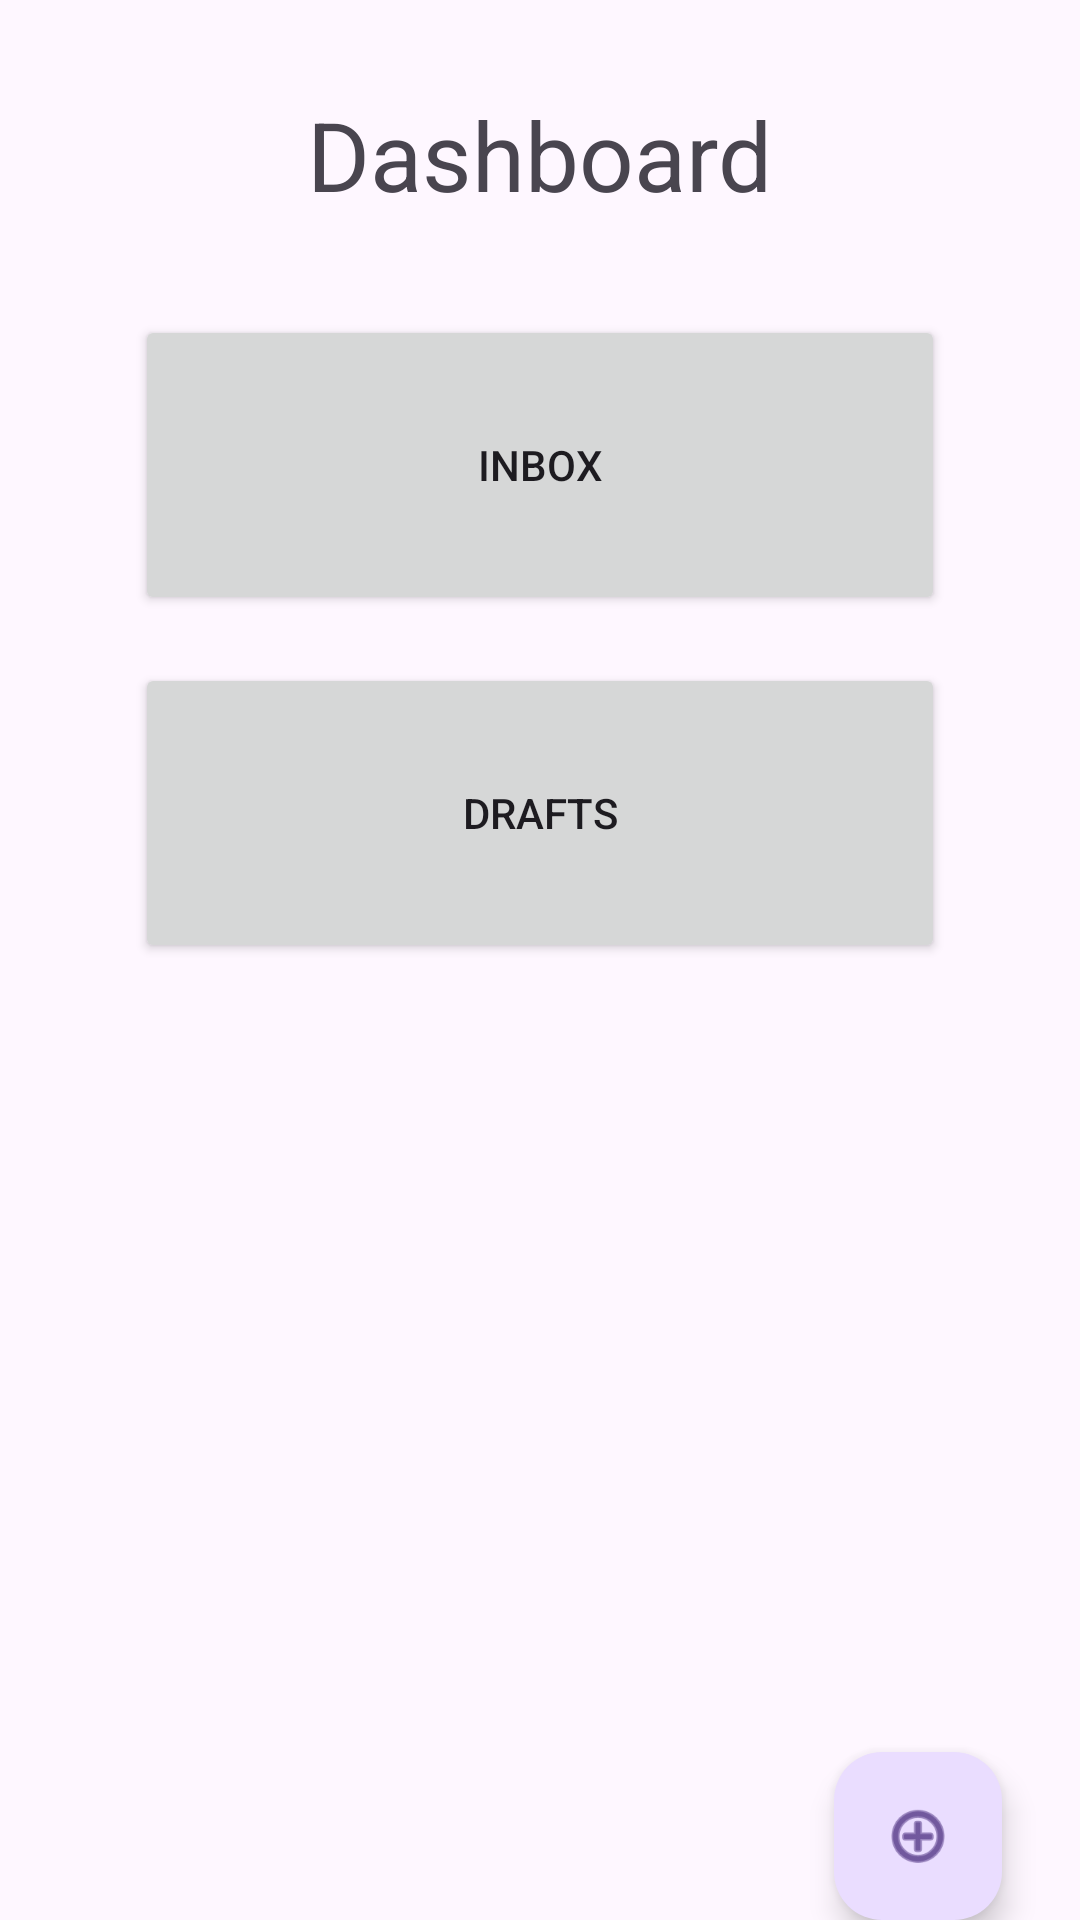

Point at icon controls on the screen. Image size 1080 × 1920, points as point (x, y).
add: point (918, 1836)
